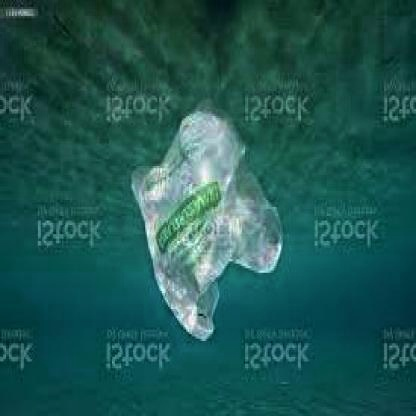pbag: (130, 95, 283, 348)
